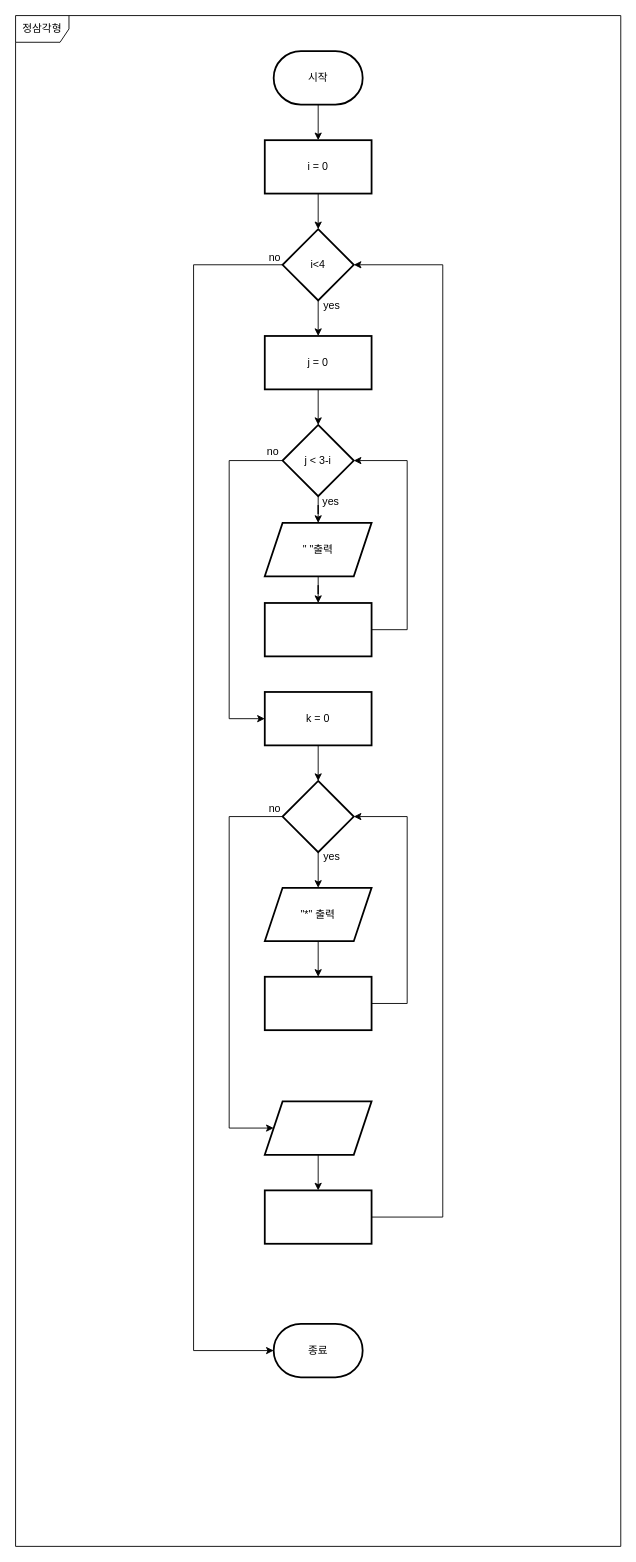
The diagram is 636 pixels wide and 1562 high, and some of its shapes have lost their labels. Each missing label, with the centre of its shape:
"i ++" belongs at point (317, 1216).
"j ++" belongs at point (317, 629).
"k ++" belongs at point (317, 1003).
"k <= 2*i" belongs at point (317, 816).
"개행문자 출력" belongs at point (317, 1127).
